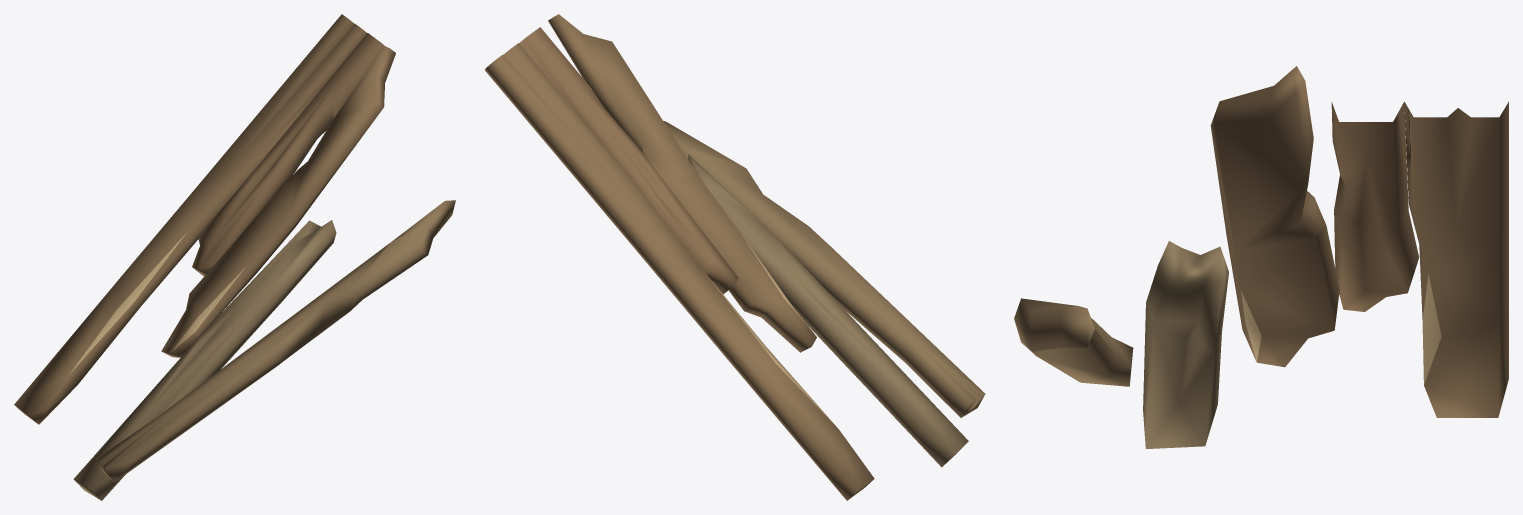
The model's file is rpgpp_av_roof_02_6x3x3_half_d.gltf.
3 renders of one model, left to right at view 1: azimuth 30°, elevation 25°; view 2: azimuth 150°, elevation 25°; view 3: azimuth 270°, elevation 25°, orthographic. The views are drawn at different scales.
Parts seen in each view (by area): view 1: rpgpp_av_roof_02_6x3x3_half_d; view 2: rpgpp_av_roof_02_6x3x3_half_d; view 3: rpgpp_av_roof_02_6x3x3_half_d.
Boxes of the visible parts, x1,y1,x2,y2 form: rpgpp_av_roof_02_6x3x3_half_d: (14,14,455,500); rpgpp_av_roof_02_6x3x3_half_d: (485,14,985,500); rpgpp_av_roof_02_6x3x3_half_d: (1014,66,1508,448).
Size of the model in its own units: 0.0425 by 0.0398 by 0.0256.
1 material, 1 textured.
